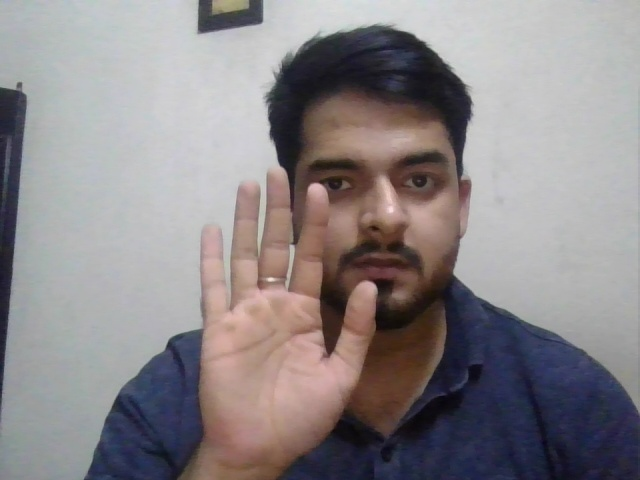hello: (196, 171, 374, 462)
